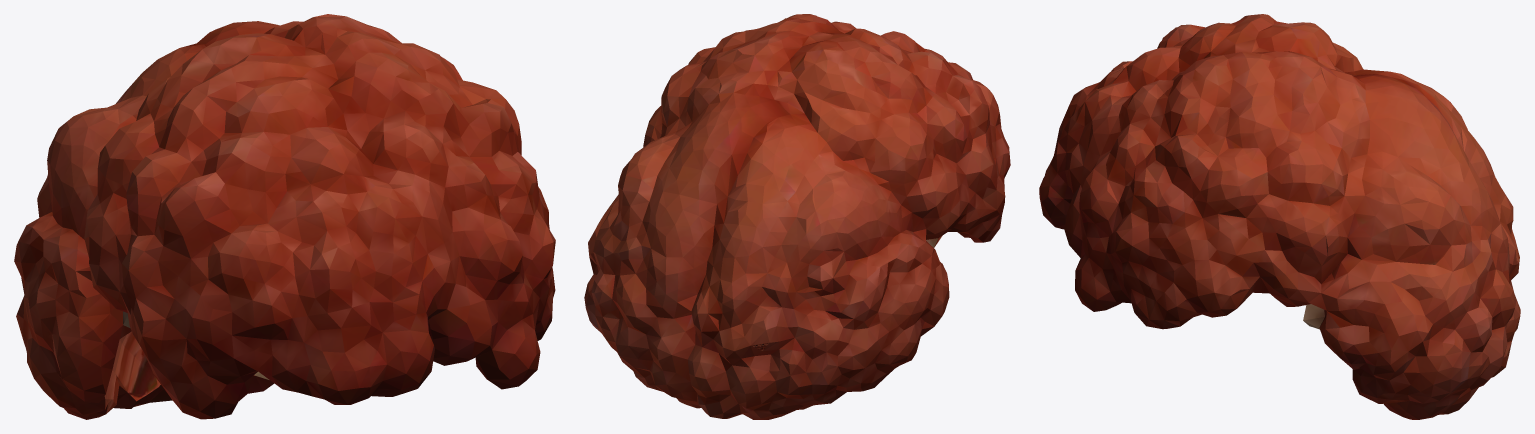
Rendered from hairstyle_076.glb.
3 views of the same model, side by side, from view 1: azimuth 30°, elevation 25°; view 2: azimuth 150°, elevation 25°; view 3: azimuth 270°, elevation 25° (orthographic). The views are drawn at different scales.
Visible parts, largest first — view 1: geometry_0_076; view 2: geometry_0_076; view 3: geometry_0_076.
Part boxes in pixels (x1,y1,x2,y2): geometry_0_076: [14, 14, 555, 419]; geometry_0_076: [584, 14, 1010, 419]; geometry_0_076: [1039, 14, 1520, 419].
Size of the model in its own units: 1.11 by 1.08 by 1.36.
1 material, 1 textured.
